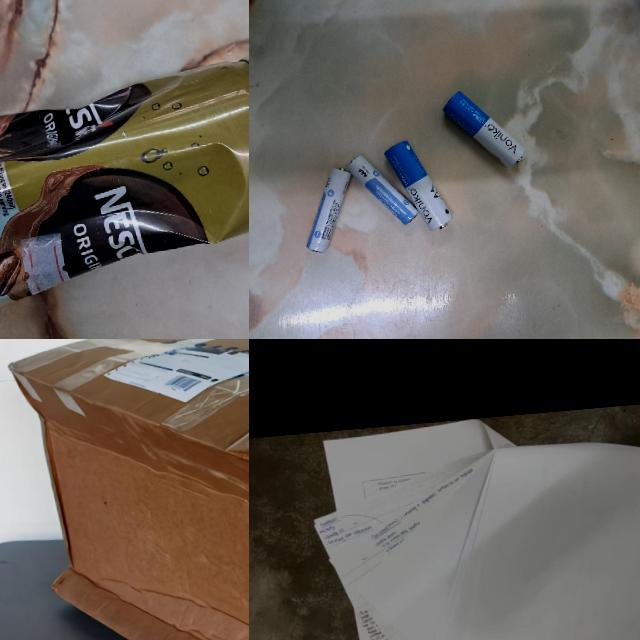bateria: (442, 84, 526, 172), (384, 136, 454, 235), (348, 150, 419, 229), (300, 165, 358, 252)
lata: (0, 53, 249, 331)
papel: (302, 392, 640, 640)
papelão: (3, 339, 249, 640)
